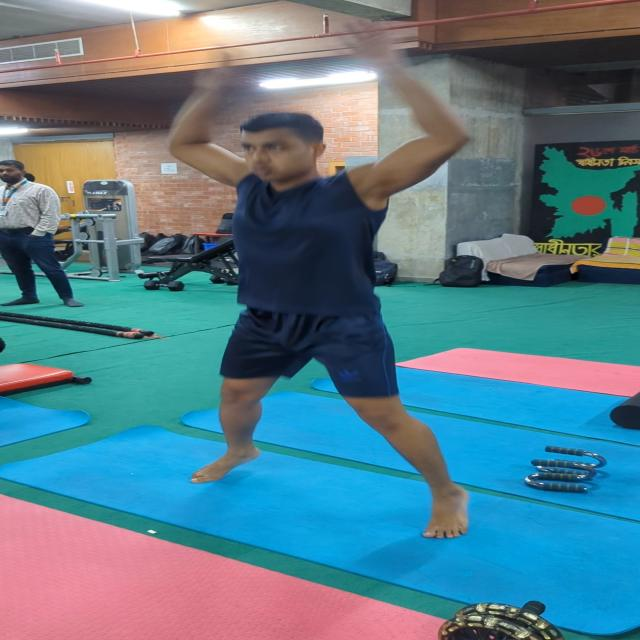Normal_JumpingJacks: (138, 44, 518, 534)
